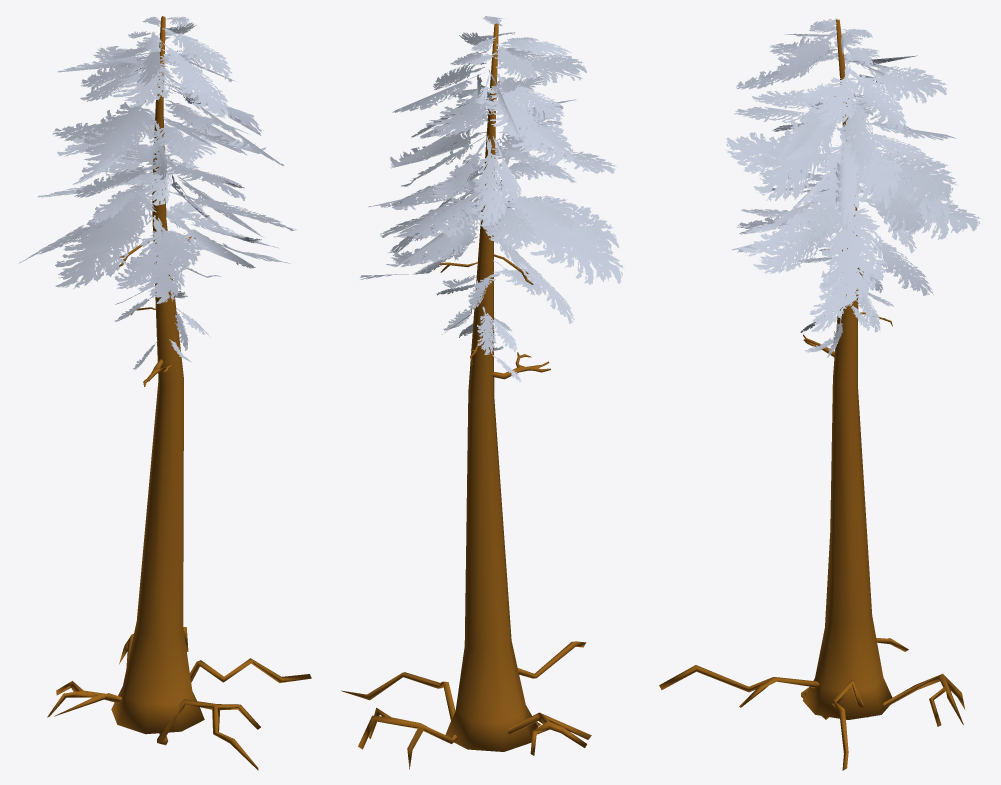
Rendered from Pine_tree_Test.fbx.
3 views of the same model, side by side, from view 1: azimuth 30°, elevation 25°; view 2: azimuth 150°, elevation 25°; view 3: azimuth 270°, elevation 25° (orthographic). The views are drawn at different scales.
Parts seen in each view (by area): view 1: Tree; view 2: Tree; view 3: Tree.
Part boxes in pixels (x1,y1,x2,y2): Tree: (19,16,311,770); Tree: (341,16,624,769); Tree: (659,18,982,770).
Bounding box in the file's own units: 846 × 2084 × 879.
